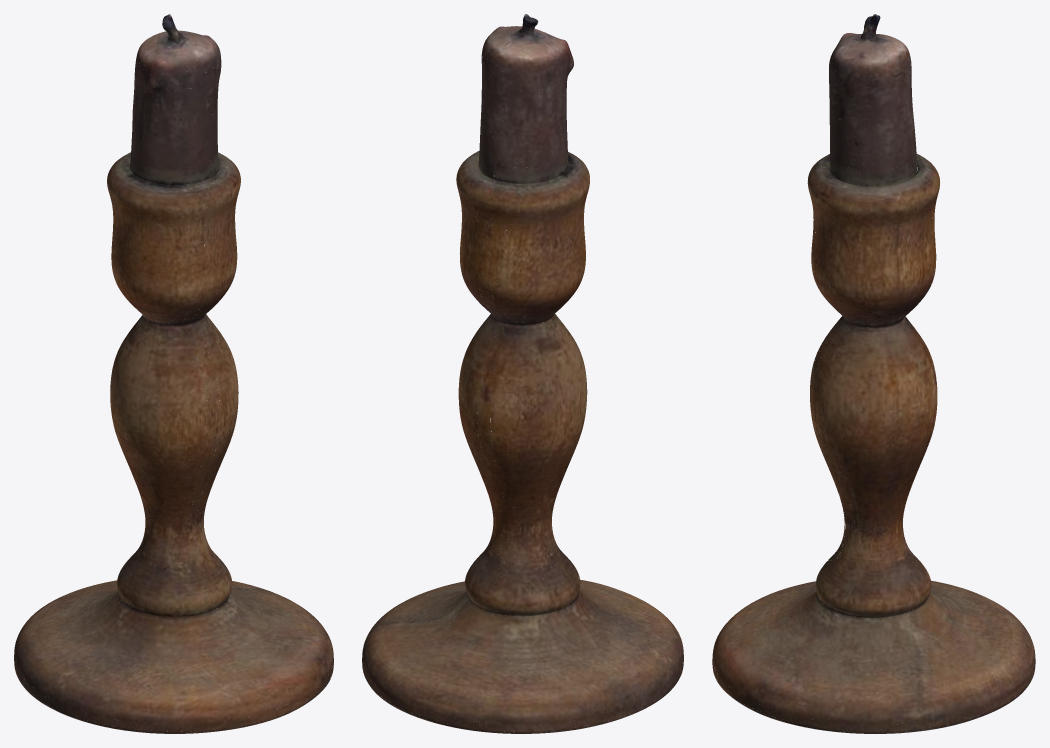
The model's file is cc0_candle.glb.
The picture shows the model from 3 angles, left to right: view 1: azimuth 30°, elevation 25°; view 2: azimuth 150°, elevation 25°; view 3: azimuth 270°, elevation 25°; orthographic projection.
Parts seen in each view (by area): view 1: wooden_candlestick; view 2: wooden_candlestick; view 3: wooden_candlestick.
Part boxes in pixels (left/top/right/bottom): wooden_candlestick: left=14, top=14, right=333, bottom=733; wooden_candlestick: left=362, top=14, right=683, bottom=733; wooden_candlestick: left=712, top=14, right=1035, bottom=733.
Size of the model in its own units: 0.0972 by 0.2197 by 0.0987.
1 material, 1 textured.
